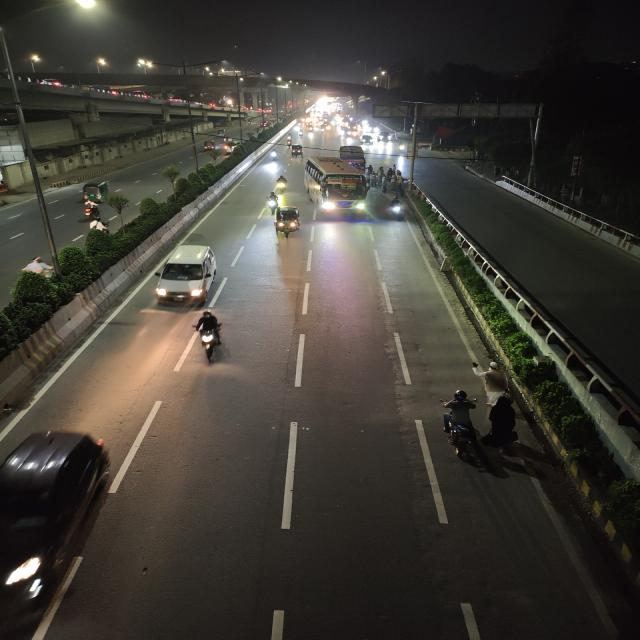bus: (305, 156, 371, 219), (337, 145, 369, 169)
car: (0, 428, 117, 632), (157, 242, 221, 306), (378, 131, 392, 142), (359, 134, 373, 144)
cng: (275, 207, 301, 236), (80, 178, 111, 200), (291, 144, 303, 157), (203, 139, 216, 151)
motorcycle: (438, 393, 478, 459), (192, 309, 230, 368), (389, 194, 408, 219), (84, 196, 100, 221), (275, 173, 291, 195), (267, 192, 279, 214), (268, 148, 280, 162), (397, 142, 408, 152)
pedestrian: (478, 359, 515, 405), (380, 175, 388, 194), (398, 172, 404, 192), (392, 163, 399, 177), (368, 164, 374, 177)
